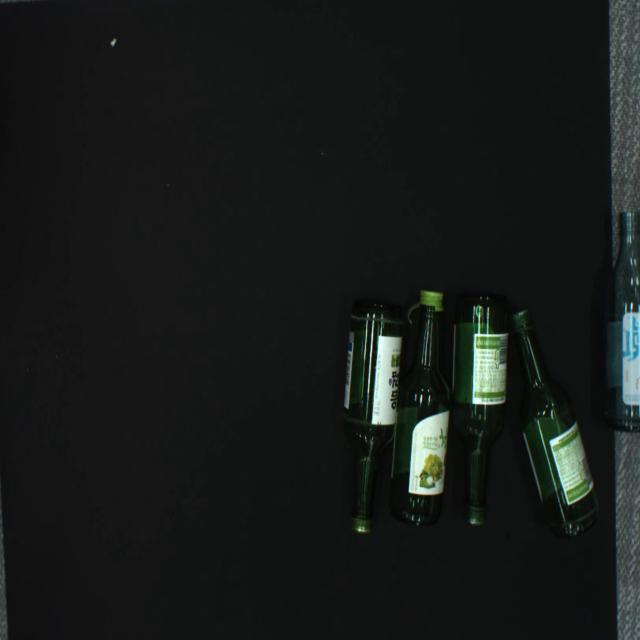soju-bottle: (510, 310, 601, 538), (388, 288, 452, 528), (342, 300, 405, 534), (449, 292, 510, 526), (602, 209, 640, 432)
